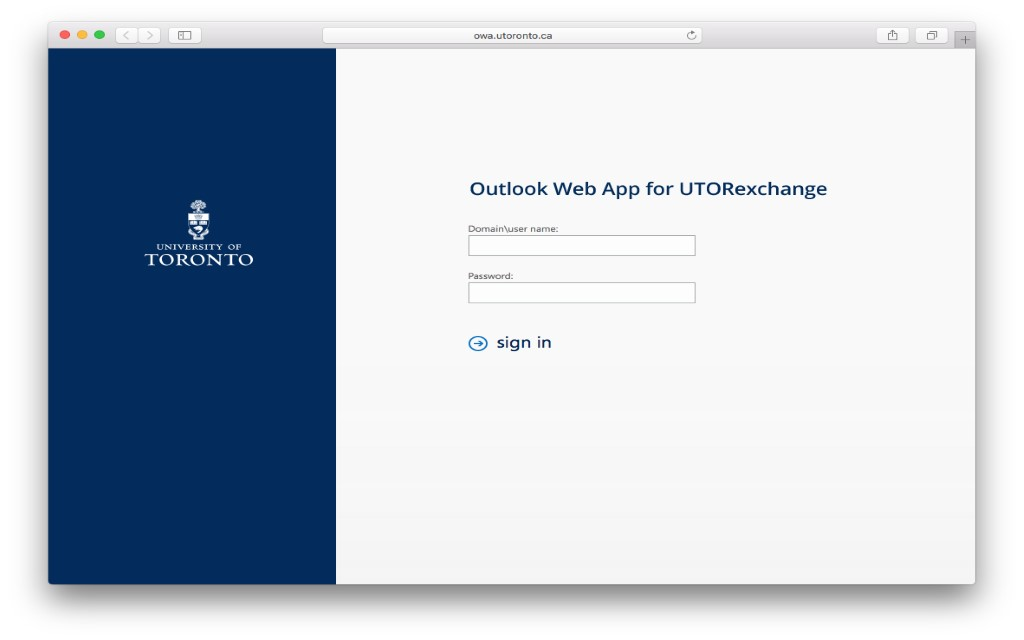button: (466, 332, 556, 356)
label_SignIn: (491, 333, 554, 353)
label_password: (467, 270, 515, 281)
textbox: (468, 235, 695, 256), (469, 282, 693, 302)
textbox_Password: (467, 280, 694, 305)
